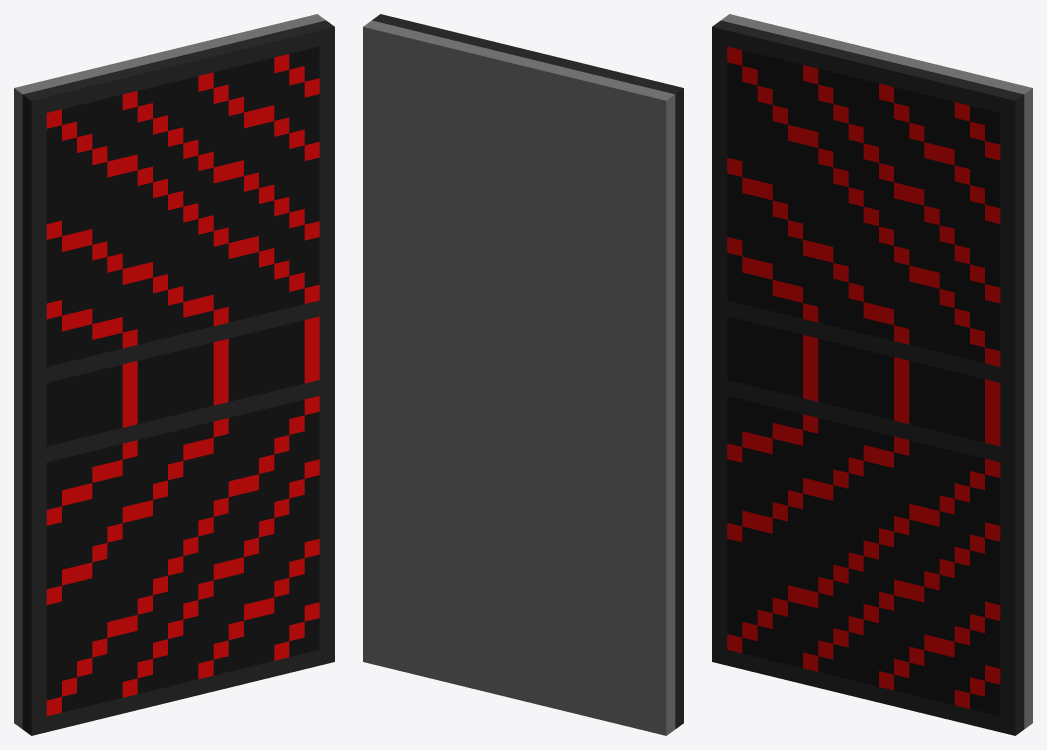
File: Door-1-left.obj
3 renders of one model, left to right at view 1: azimuth 30°, elevation 25°; view 2: azimuth 150°, elevation 25°; view 3: azimuth 330°, elevation 25°, orthographic.
Visible parts, largest first — view 1: left; view 2: left; view 3: left.
Boxes of the visible parts, box(x1,y1,x2,y2) form: left: box(14, 14, 334, 735); left: box(363, 14, 683, 735); left: box(712, 14, 1032, 735).
Size of the model in its own units: 2 by 4 by 0.2.
Materials: 1 (1 with a texture image).
